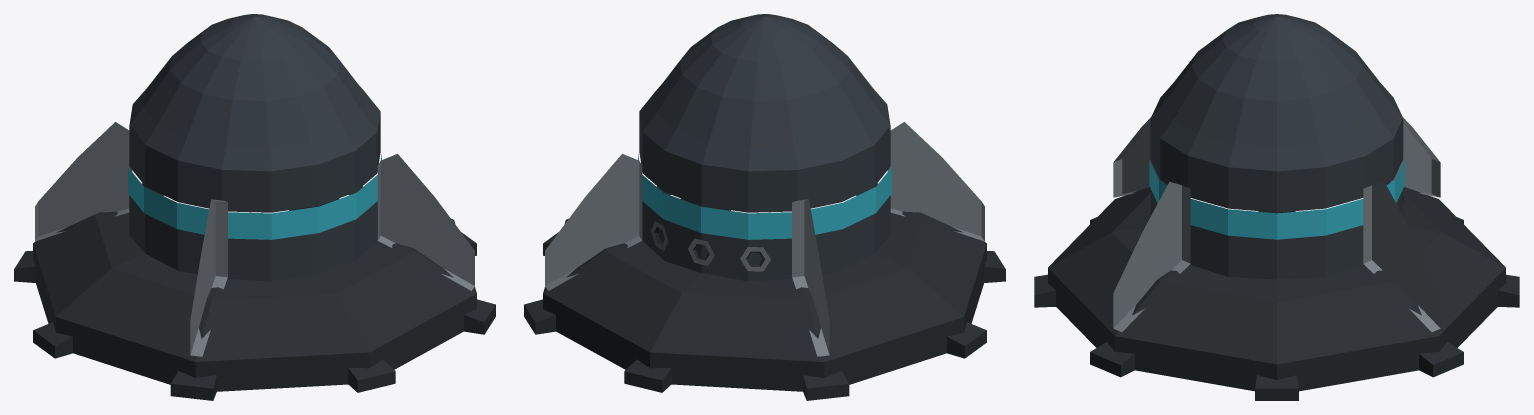
File: electron_core.glb
The picture shows the model from 3 angles, left to right: view 1: azimuth 30°, elevation 25°; view 2: azimuth 150°, elevation 25°; view 3: azimuth 270°, elevation 25°; orthographic projection.
Parts seen in each view (by area): view 1: 357_energy_shield_projector; view 2: 357_energy_shield_projector; view 3: 357_energy_shield_projector.
Part boxes in pixels (x1,y1,x2,y2): 357_energy_shield_projector: [14, 14, 495, 400]; 357_energy_shield_projector: [524, 14, 1005, 400]; 357_energy_shield_projector: [1034, 14, 1519, 400].
Size of the model in its own units: 0.5 by 0.32 by 0.5.
